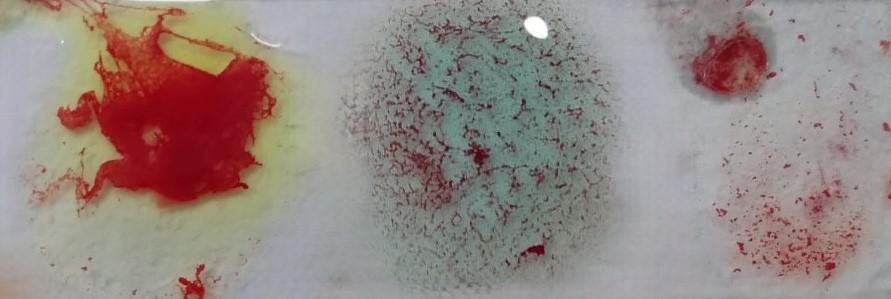A: (354, 7, 605, 299)
B: (44, 0, 299, 299)
D: (713, 4, 883, 294)
